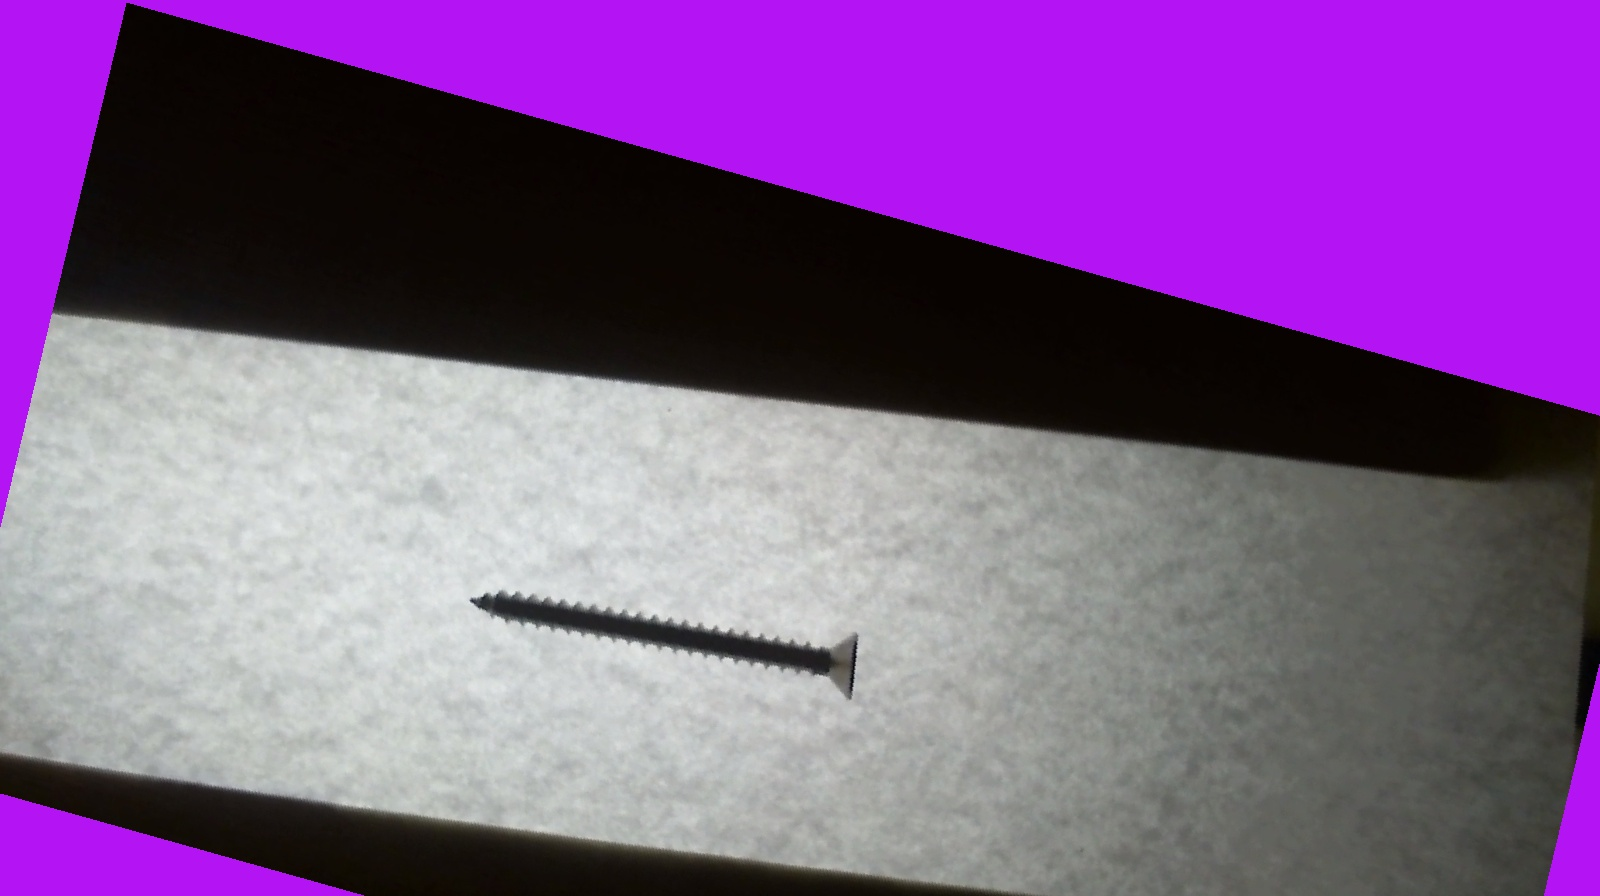S002: (456, 527, 874, 732)
